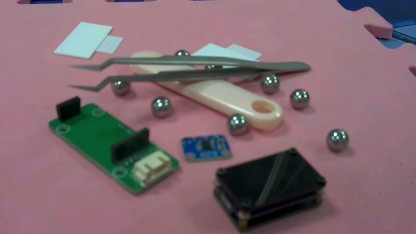ironball: (323, 122, 349, 153), (256, 68, 279, 95), (225, 110, 248, 136), (287, 87, 310, 110), (150, 92, 168, 116), (110, 75, 131, 95), (202, 56, 221, 74), (170, 48, 190, 64)
